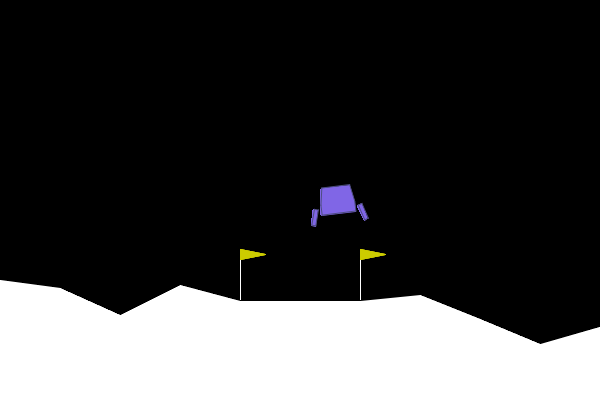lander: (305, 181, 370, 228)
